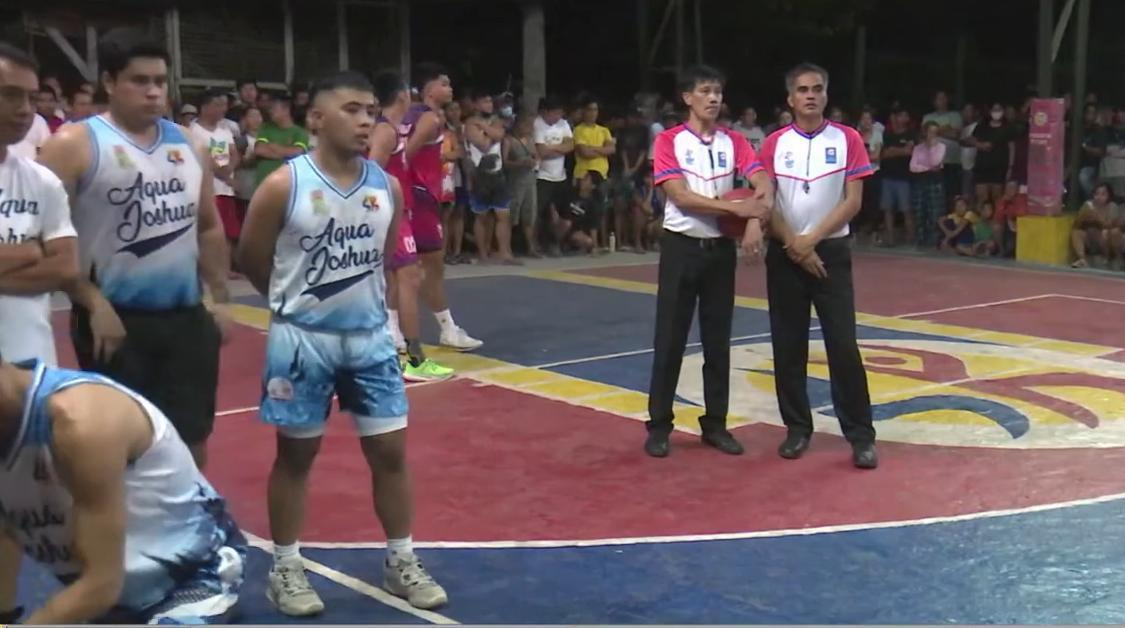ball: (718, 193, 768, 245)
human: (238, 57, 450, 628), (55, 25, 225, 465), (0, 353, 252, 628), (762, 57, 885, 477), (628, 62, 750, 472), (0, 43, 84, 372), (415, 55, 490, 368), (368, 57, 421, 382)
